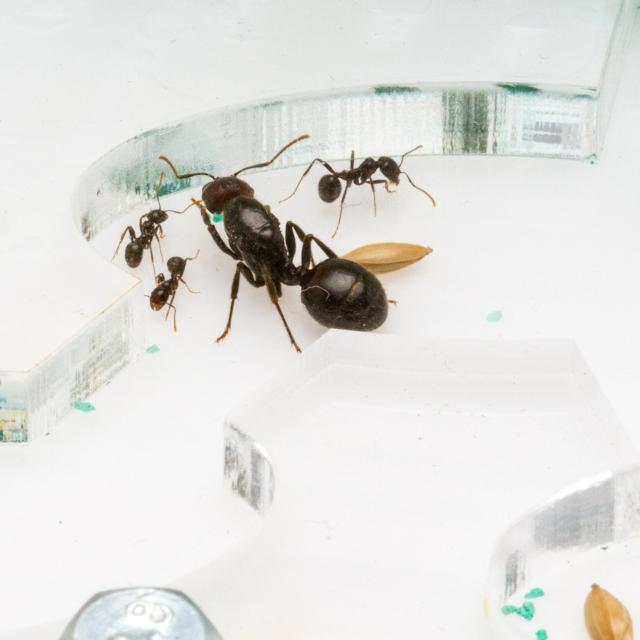Minor: (282, 147, 434, 238), (147, 250, 200, 332), (115, 209, 171, 268)
Queen: (162, 132, 398, 354)
